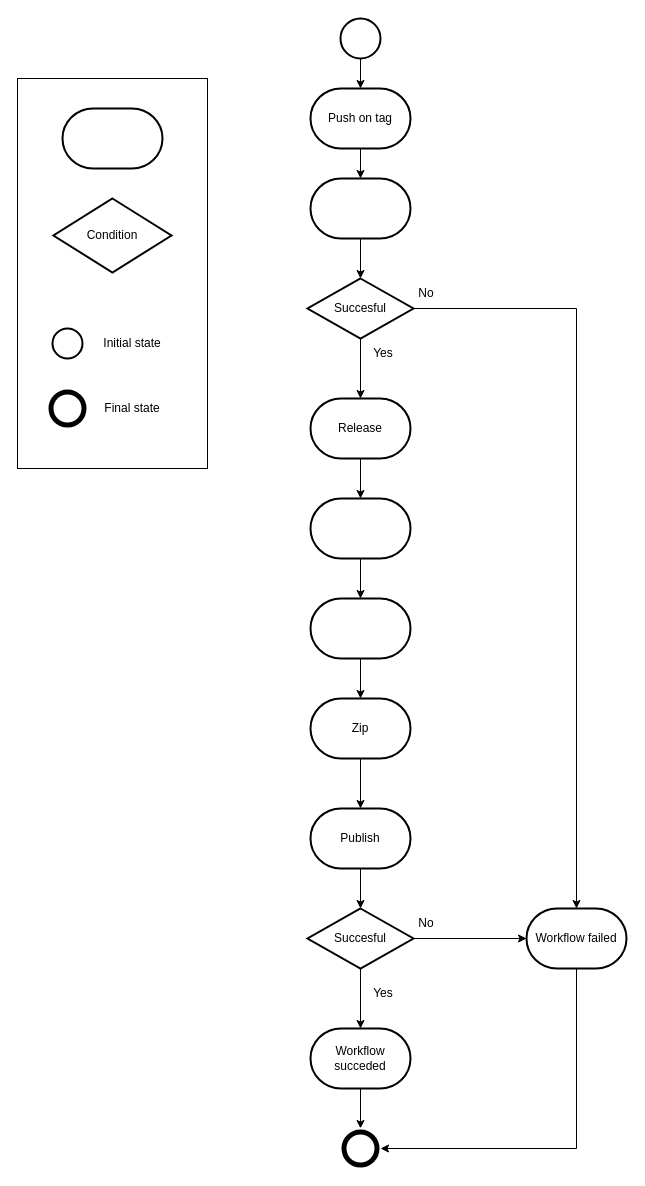
The diagram is 645 pixels wide and 1186 high, and some of its shapes have lost their labels. Each missing label, with the centre of its shape:
Activity: the point at 112,138
Build and Test: the point at 360,208
Checkout: the point at 360,528
Setup .NET: the point at 360,628
